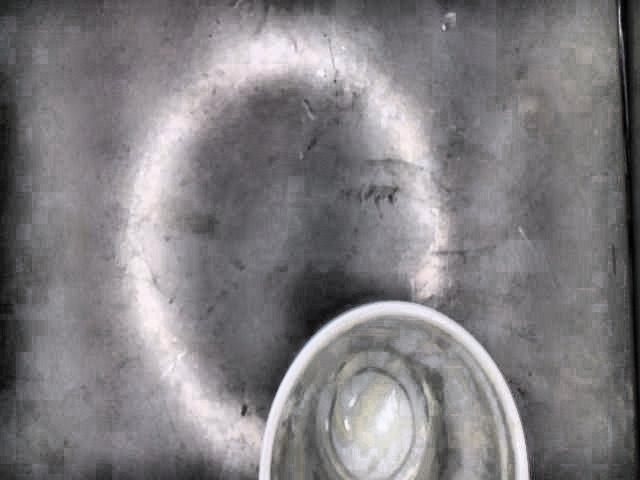Plastic: (251, 297, 536, 480)
